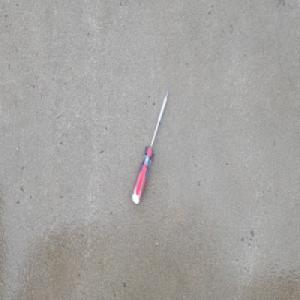Screwdriver: (130, 86, 169, 204)
